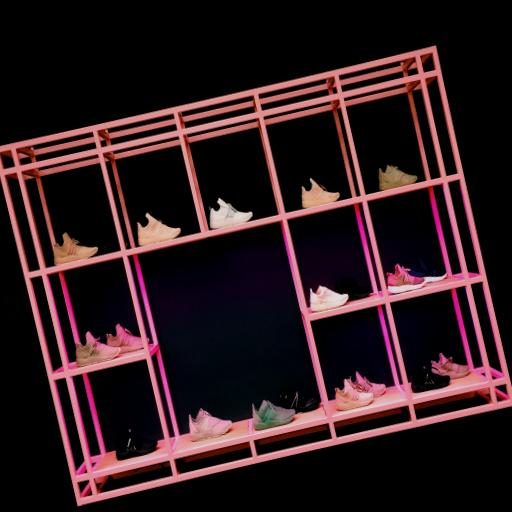shoe: (75, 332, 119, 366), (137, 213, 180, 246), (53, 233, 97, 265), (115, 427, 157, 460), (188, 409, 230, 441), (209, 199, 252, 229), (252, 401, 294, 430), (334, 379, 372, 410), (386, 264, 424, 294), (410, 364, 449, 393), (106, 324, 142, 354), (301, 179, 338, 208), (85, 226, 119, 256), (279, 388, 319, 413), (309, 286, 347, 312), (431, 353, 469, 379), (234, 195, 273, 220), (378, 165, 416, 190), (409, 259, 446, 283), (334, 278, 371, 301), (166, 211, 199, 236), (351, 372, 384, 397)
